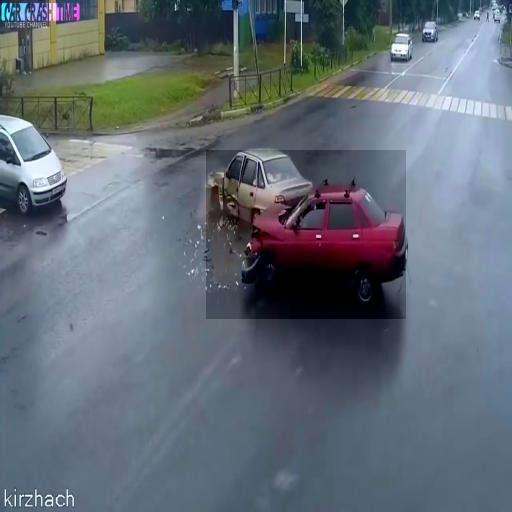小汽车: (0, 114, 70, 222), (390, 29, 412, 65), (422, 18, 437, 42)
小汽车撞小汽车: (206, 150, 406, 319)
